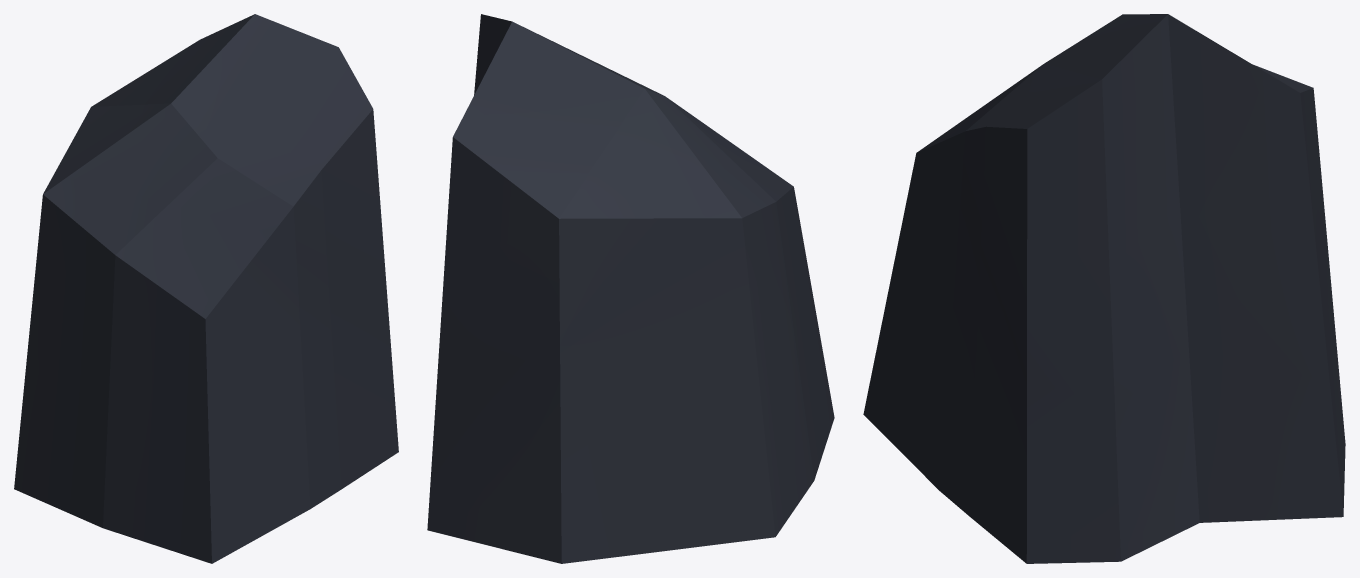
The model's file is SM_Rock3.fbx.
3 renders of one model, left to right at view 1: azimuth 30°, elevation 25°; view 2: azimuth 150°, elevation 25°; view 3: azimuth 270°, elevation 25°, orthographic. The views are drawn at different scales.
Parts seen in each view (by area): view 1: SM_Rock3; view 2: SM_Rock3; view 3: SM_Rock3.
Part boxes in pixels (x1,y1,x2,y2): SM_Rock3: (14,14,398,563); SM_Rock3: (427,14,834,563); SM_Rock3: (863,14,1345,563).
Size of the model in its own units: 38.15 by 46.4 by 40.55.
